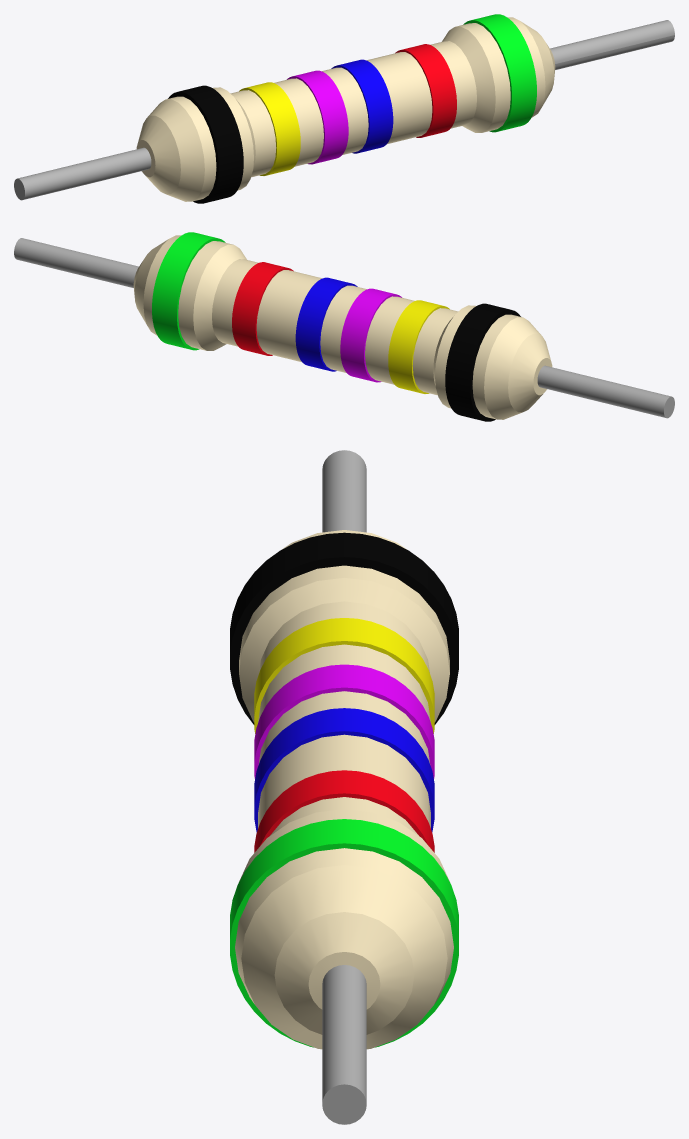
The model's file is color_resistor_from_uv.glb.
The picture shows the model from 3 angles, top to bottom: view 1: azimuth 30°, elevation 25°; view 2: azimuth 150°, elevation 25°; view 3: azimuth 270°, elevation 25°; orthographic projection. The views are drawn at different scales.
Visible parts, largest first — view 1: ColorResistorUV; view 2: ColorResistorUV; view 3: ColorResistorUV.
Part boxes in pixels (left/top/right/bottom): ColorResistorUV: left=14, top=14, right=674, bottom=203; ColorResistorUV: left=14, top=232, right=674, bottom=421; ColorResistorUV: left=230, top=450, right=458, bottom=1124.
Size of the model in its own units: 1.02 by 0.156 by 0.1555.
1 material, 1 textured.
